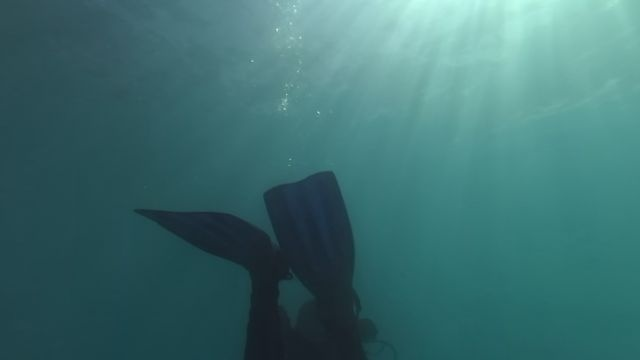Diver: (129, 156, 397, 354)
